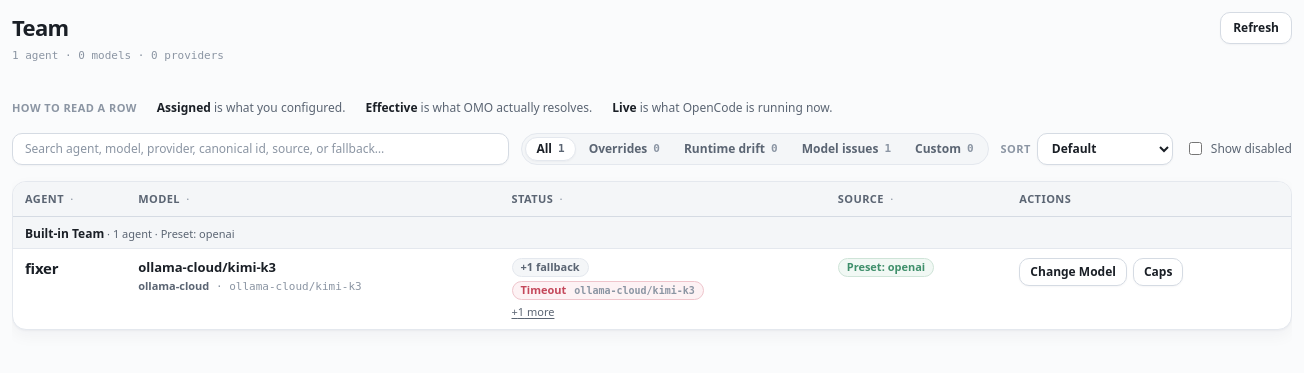
Test case: agents assignment IA — status (fallbacks + model health) › primary + fallback adverse issues: first issue + '+N more'
The width and height of the screenshot is (1304, 373).
expect the cell "+1 fallback Timeout ollama-cloud/kimi-k3 +1 more" is shown: met, box [500,249,826,329]
expect the cell does not show "Provider disconnected": met
What coordinates should you click on to do the following:
click the button "+1 more"
I would click on:
 (533, 312)
Its box is [512,304,554,320].
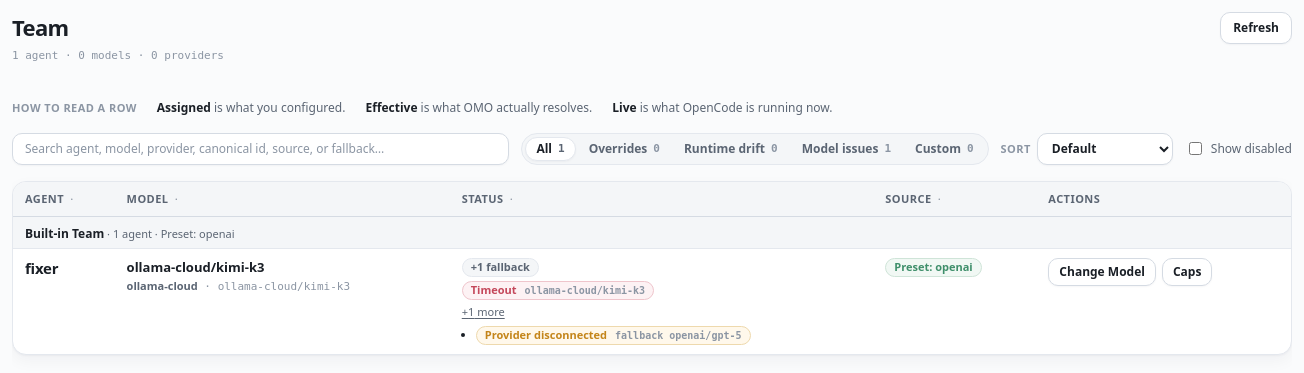
expect the cell that starts with "fallback" shows "Provider disconnected": met, box [485,327,607,342]
expect the button "+1 more" is expanded: met, box [462,304,505,320]
